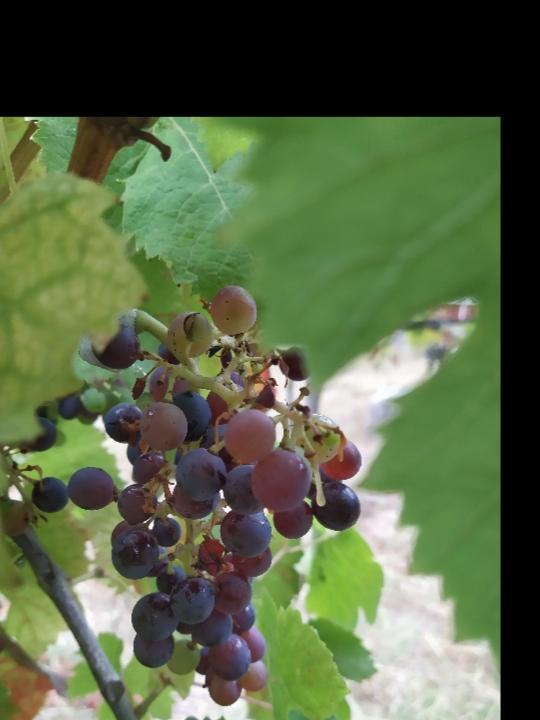grape: (30, 280, 369, 712)
